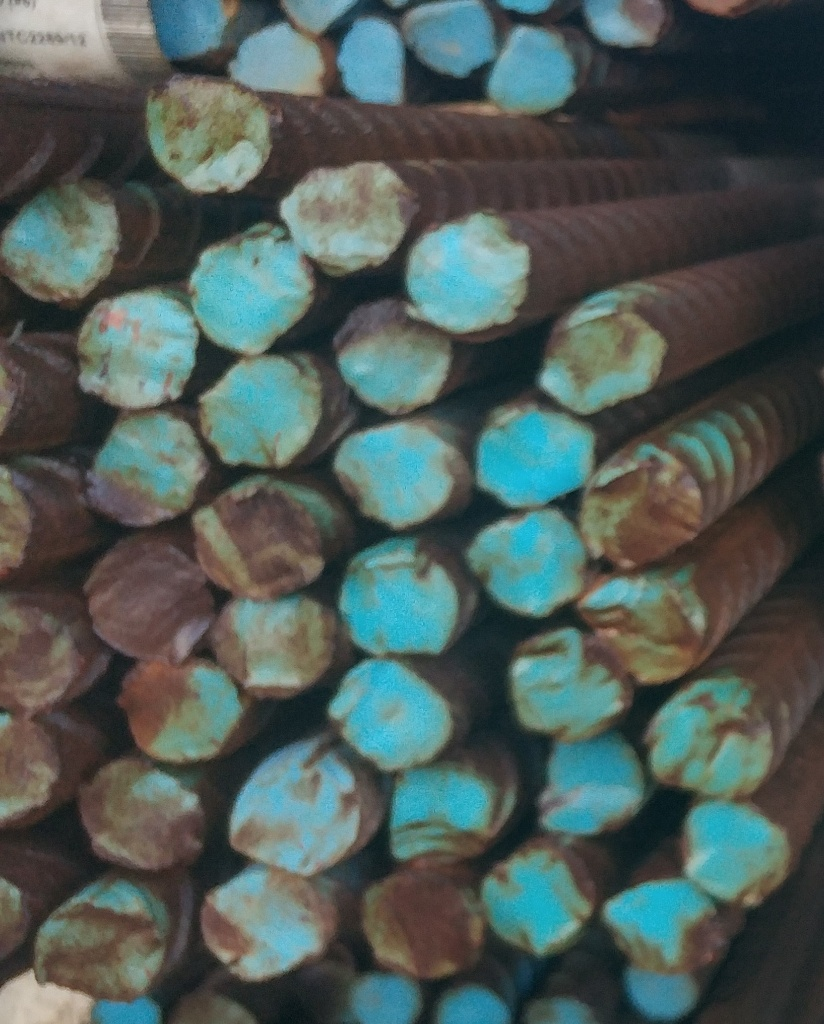dipstick: (188, 471, 354, 600), (180, 216, 323, 358), (221, 744, 374, 873), (580, 440, 715, 576), (142, 65, 275, 196), (645, 677, 781, 804), (536, 291, 674, 414), (500, 627, 650, 740), (34, 881, 172, 1003), (403, 212, 535, 339), (576, 571, 714, 691), (335, 418, 475, 536), (327, 655, 469, 771), (79, 287, 211, 410), (337, 537, 471, 658), (330, 297, 464, 417), (89, 531, 217, 655), (479, 834, 600, 965), (76, 750, 211, 866), (84, 406, 208, 531), (472, 395, 603, 513), (355, 862, 489, 977), (459, 506, 592, 621), (3, 170, 124, 296), (277, 158, 404, 278), (193, 870, 333, 978), (119, 652, 252, 763), (195, 358, 325, 468), (597, 873, 736, 975), (676, 797, 802, 908), (208, 593, 343, 694), (527, 733, 652, 842), (385, 767, 517, 868), (1, 588, 96, 714), (230, 21, 342, 103), (488, 22, 580, 121), (399, 3, 512, 79), (335, 18, 414, 106), (625, 967, 710, 1023), (342, 980, 427, 1024)
